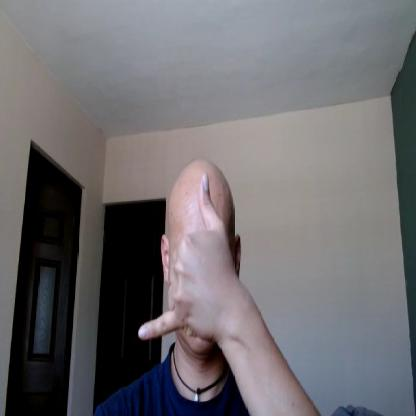Y: (138, 171, 231, 340)
